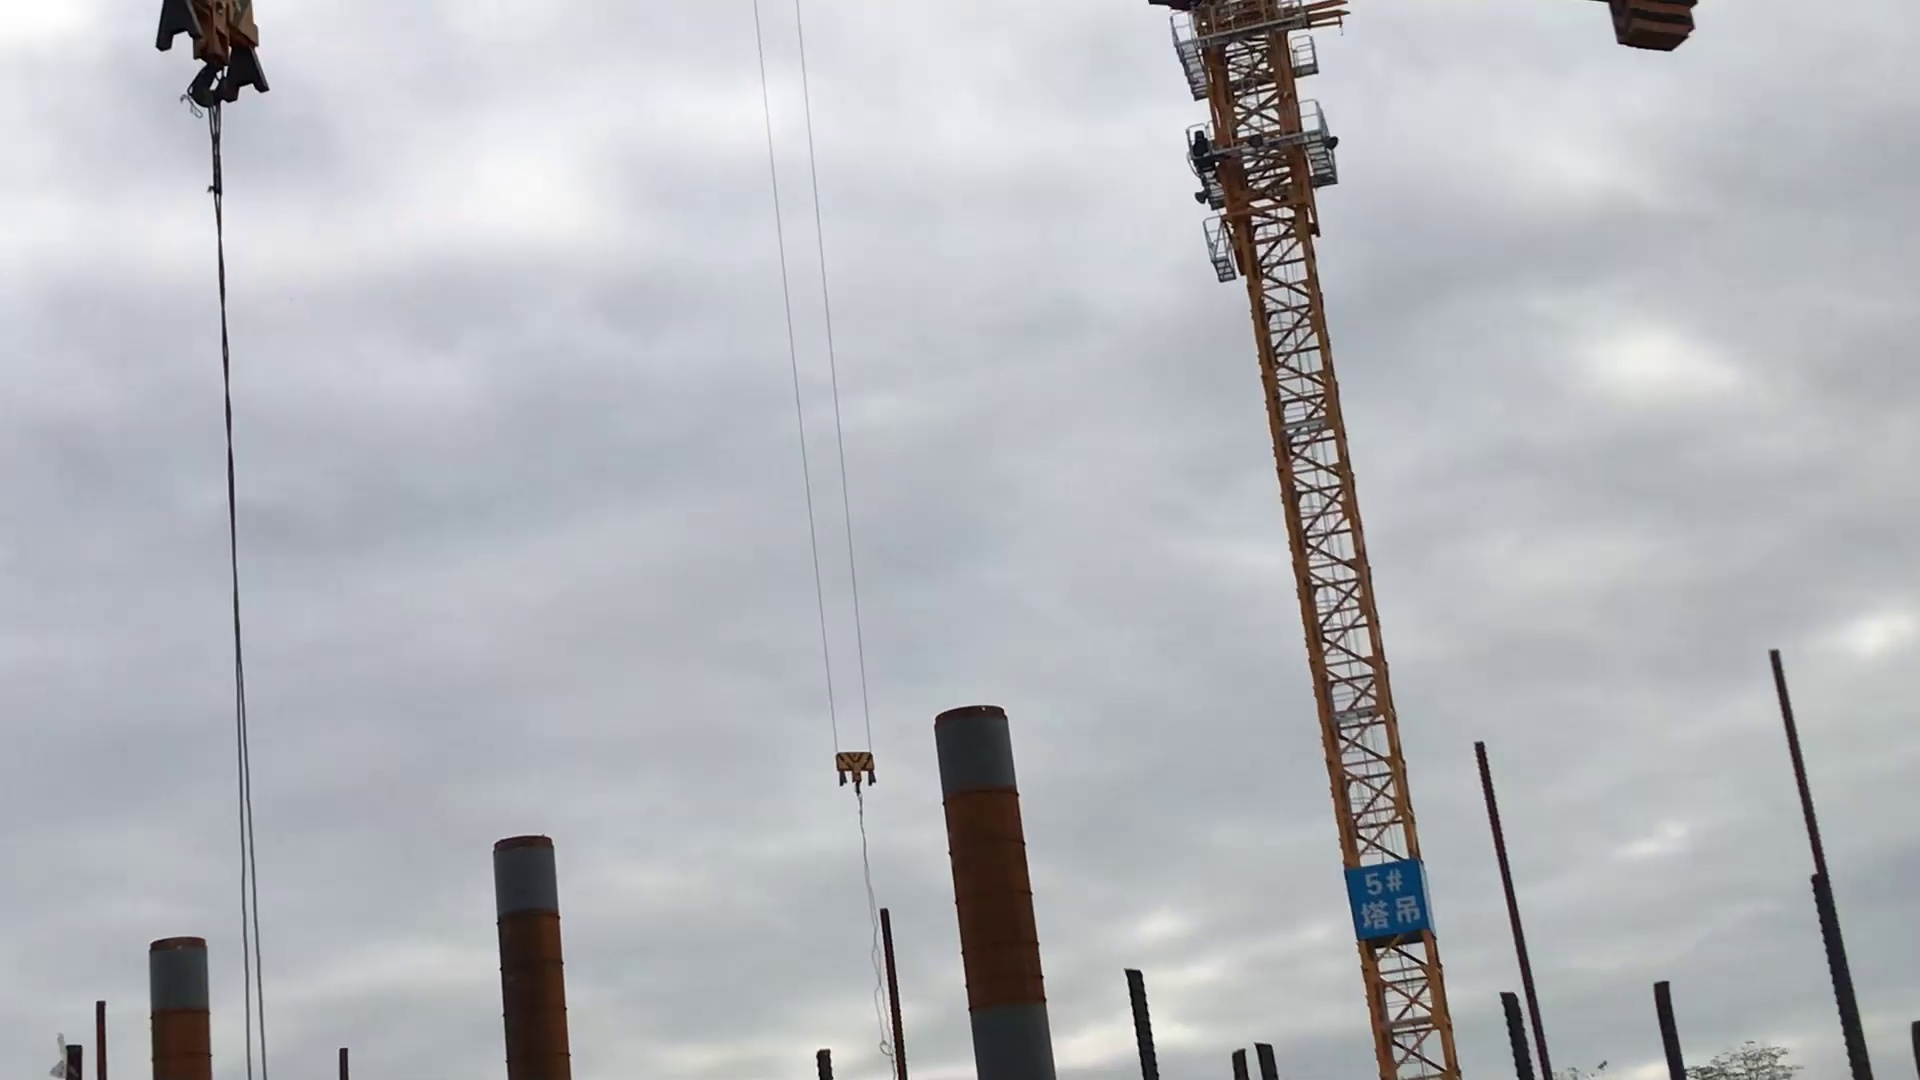hook: (153, 1, 301, 135), (832, 749, 884, 800)
slogan: (1338, 860, 1437, 953)
